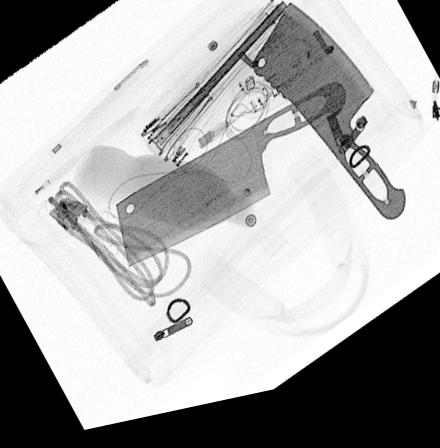Knife: (115, 95, 347, 273), (251, 14, 406, 237)
